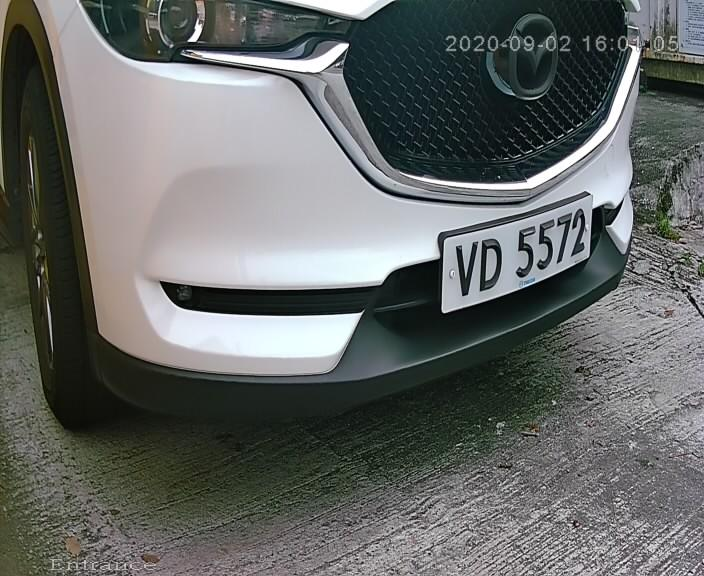License Plate: (425, 186, 601, 319)
